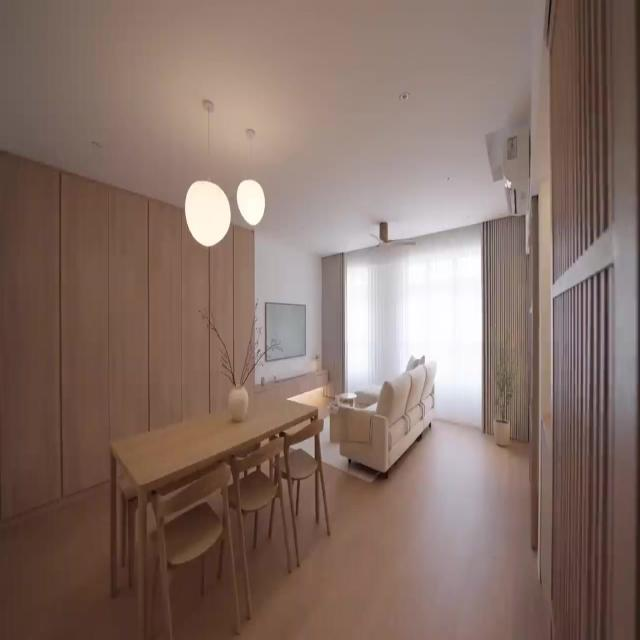obstacle: (109, 395, 319, 637), (329, 359, 437, 477)
